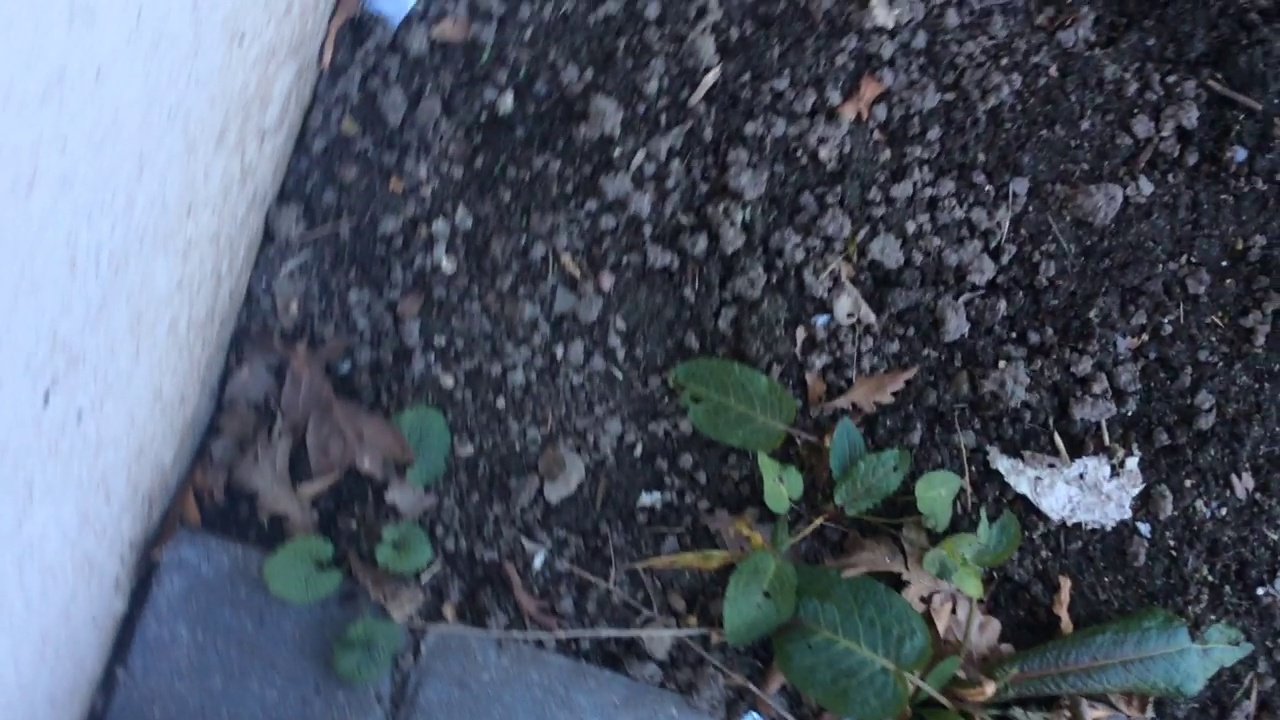rumex: (650, 343, 1243, 720)
